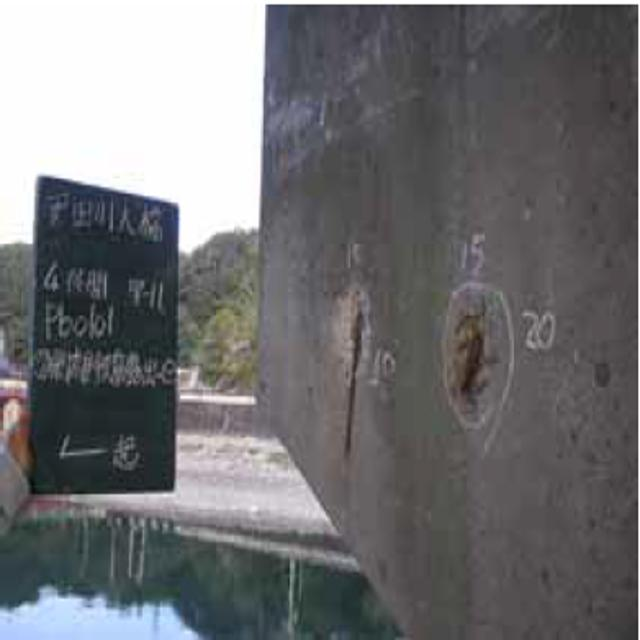spalling: (431, 281, 520, 436), (314, 279, 380, 464)
